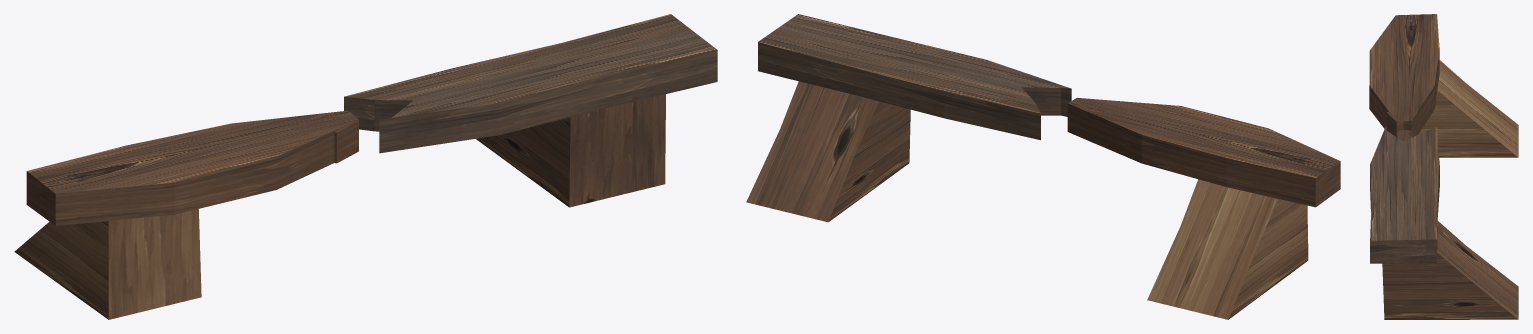
File: rail_wedge.glb
3 views of the same model, side by side, from view 1: azimuth 30°, elevation 25°; view 2: azimuth 150°, elevation 25°; view 3: azimuth 270°, elevation 25° (orthographic). The views are drawn at different scales.
Visible parts, largest first — view 1: piece3, piece2, piece0, piece1; view 2: piece3, piece2, piece1, piece0; view 3: piece3, piece1, piece2, piece0.
Part boxes in pixels (<box>): piece3: <box>344,14,717,153</box>; piece2: <box>26,110,358,225</box>; piece0: <box>14,209,201,319</box>; piece1: <box>476,94,665,207</box>; piece3: <box>758,14,1071,140</box>; piece2: <box>1067,97,1340,207</box>; piece1: <box>746,81,910,222</box>; piece0: <box>1147,179,1308,319</box>; piece3: <box>1370,125,1439,263</box>; piece1: <box>1382,221,1518,319</box>; piece2: <box>1369,14,1439,141</box>; piece0: <box>1419,60,1518,157</box>.
Bounding box in the file's own units: 1.11 × 0.22 × 0.3112.
5 materials, 5 textured.
